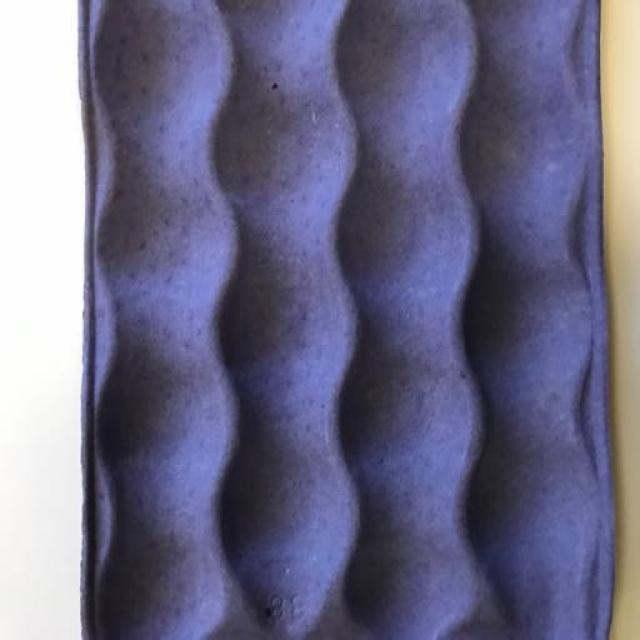cardboard: (70, 1, 640, 640)
